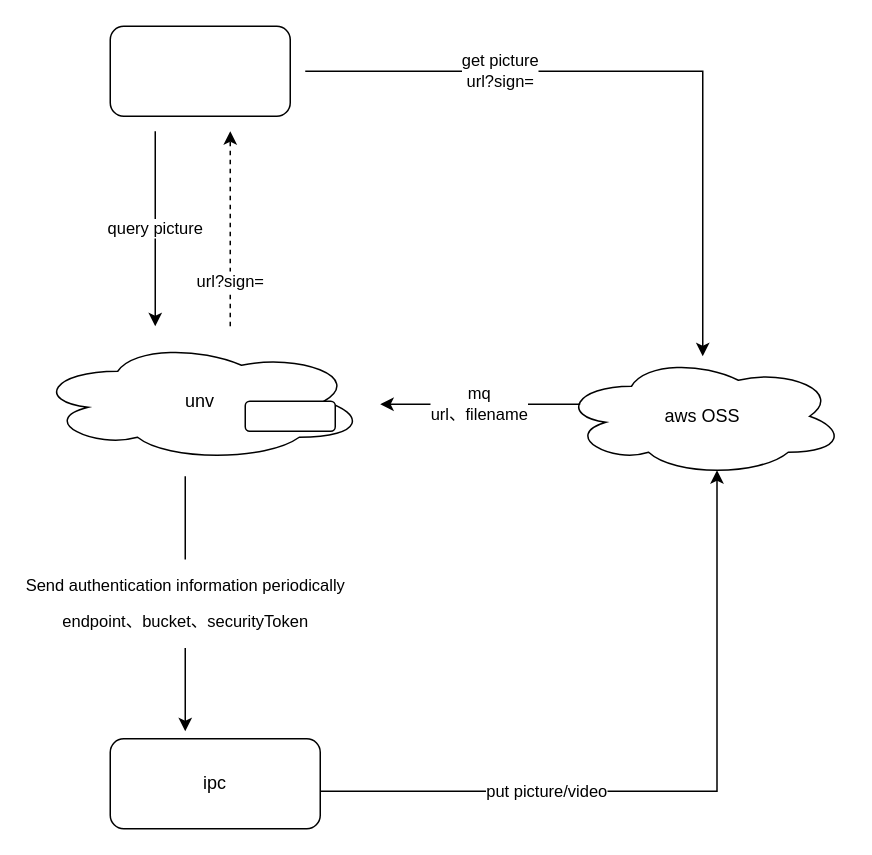
Image size: 872x855. Some labels were removed from this diagram. Here are the shapes that lost their labels. From the top down, the centre of each, then its label:
pixel 199 70: APP
pixel 289 415: aws ak/sk
